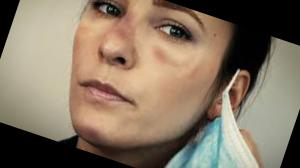without_mask: (45, 1, 209, 168)
